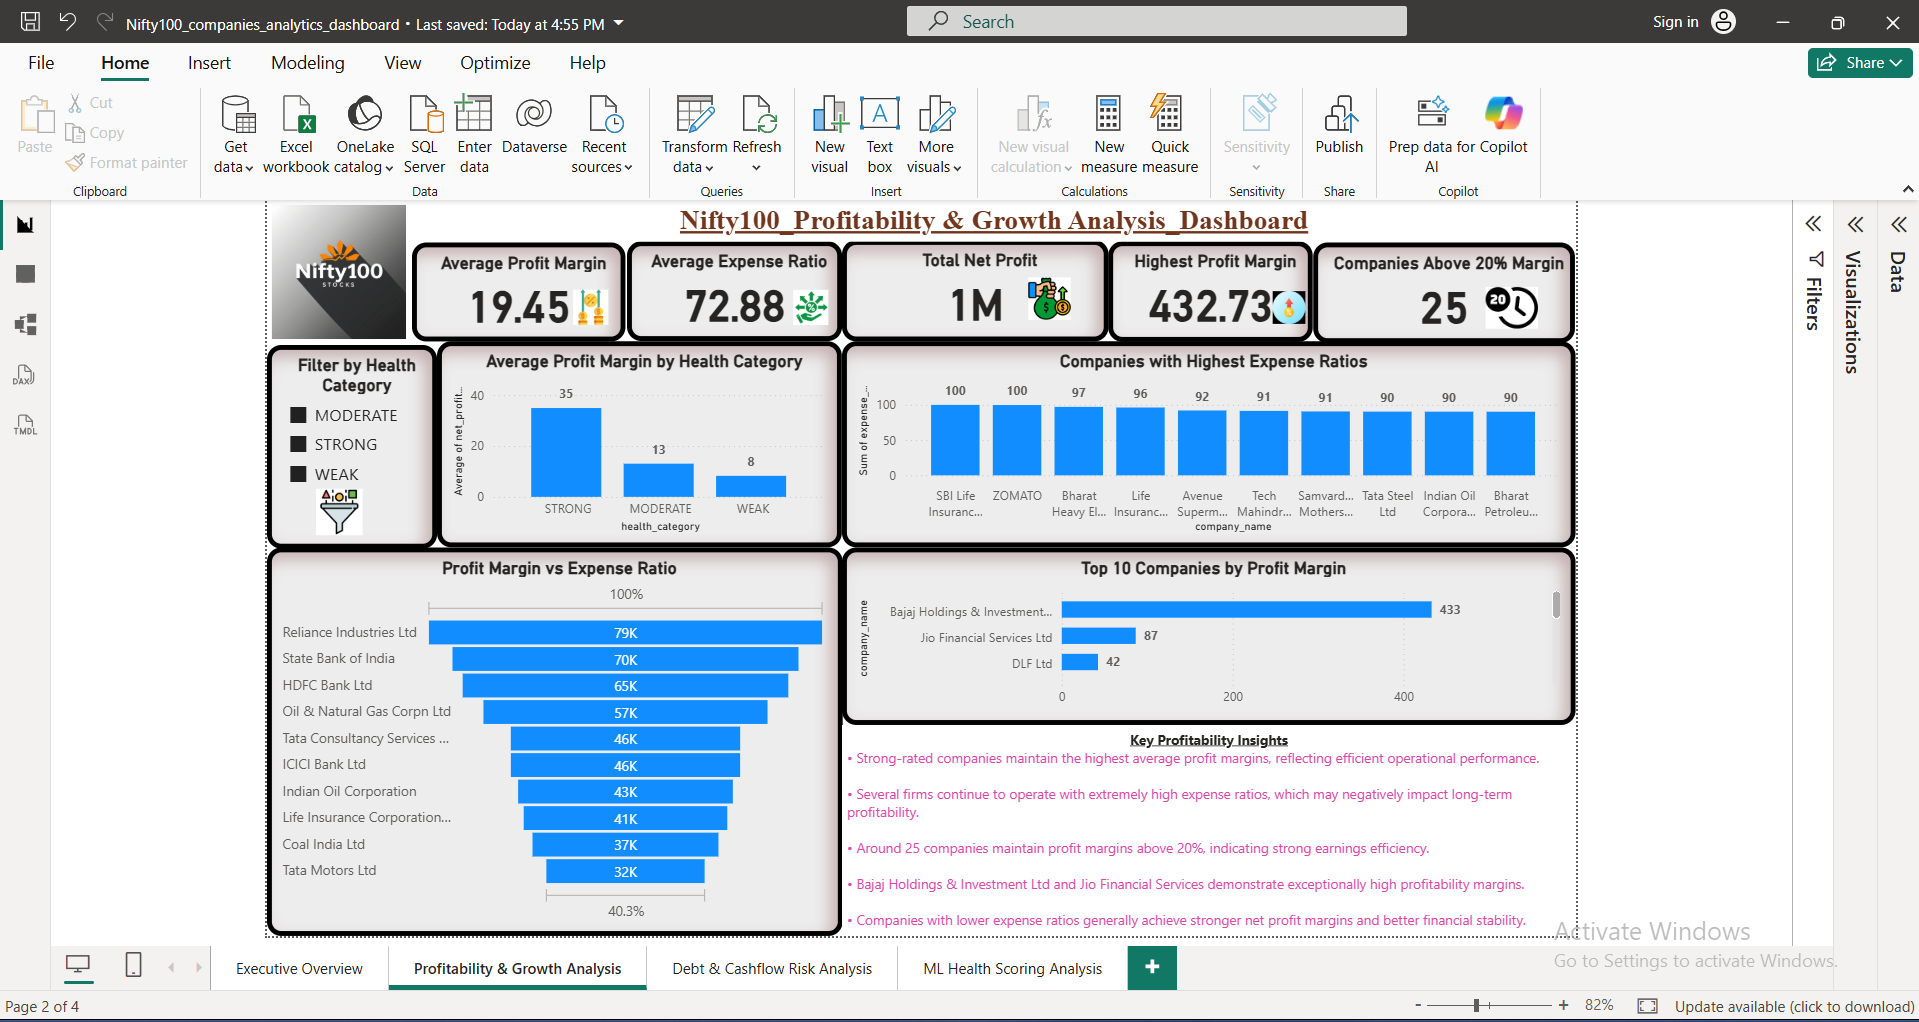

What the dashboard file says about the page in this screenshot:
{"tool":"powerbi","page":{"name":"Profitability & Growth Analysis","canvas":[1280,720],"ordinal":1},"visuals":[{"type":"card","title":"Average Profit Margin","fields":{"Values":["Avg(company_health_scores.net_profit_margin_pct)"]},"box":[141.8,41.6,209.1,96.6],"z":0},{"type":"card","title":"Total Net Profit","fields":{"Values":["Sum(company_health_scores.net_profit)"]},"box":[562.5,39.1,260.5,99],"z":1000},{"type":"card","title":"Highest Profit Margin","fields":{"Values":["Max(company_health_scores.net_profit_margin_pct)"]},"box":[823.6,39.8,200.4,98.7],"z":2000},{"type":"card","title":"Companies Above 20% Margin","fields":{"Values":["Count(company_health_scores.company_name)"]},"box":[1023.9,41.3,256.4,98.7],"z":3000},{"type":"card","title":"Average Expense Ratio","fields":{"Values":["Avg(company_health_scores.expense_ratio_pct)"]},"box":[352.2,40.4,210.3,97.8],"z":4000},{"type":"slicer","title":"Filter by Health Category","fields":{"Values":["company_health_scores.health_category"]},"box":[0,141.4,166.5,198.9],"z":5000},{"type":"image","box":[0,0,141.3,141.3],"z":6000},{"type":"textbox","box":[141.3,0,1138.9,41.2],"z":7000},{"type":"clusteredBarChart","title":"Top 10 Companies by Profit Margin","fields":{"Category":["company_health_scores.company_name"],"Y":["Sum(company_health_scores.net_profit_margin_pct)"]},"box":[562.8,472.9,717.5,247.5],"z":8000},{"type":"clusteredColumnChart","title":"Companies with Highest Expense Ratios","fields":{"Category":["company_health_scores.company_name"],"Y":["Sum(company_health_scores.expense_ratio_pct)"]},"box":[562.5,138.2,717.8,335.1],"z":9000},{"type":"clusteredColumnChart","title":"Average Profit Margin by Health Category","fields":{"Category":["company_health_scores.health_category"],"Y":["Avg(company_health_scores.net_profit_margin_pct)"]},"box":[166.5,138.5,396.3,201.8],"z":10000},{"type":"funnel","title":"Profit Margin vs Expense Ratio","fields":{"Category":["company_health_scores.company_name"],"Y":["Sum(company_health_scores.net_profit)"]},"box":[0,340.3,562.8,380.1],"z":11000}]}

Visuals, with their boxes on the page's 1280x720 design canvas (x1, y1, x2, y2). These are canvas units, not pixel positions in the 1919x1022 screenshot, which may show the page scaled, cropped or inside an application window:
"Average Profit Margin" card: 142 42 351 138
"Total Net Profit" card: 562 39 823 138
"Highest Profit Margin" card: 824 40 1024 138
"Companies Above 20% Margin" card: 1024 41 1280 140
"Average Expense Ratio" card: 352 40 562 138
"Filter by Health Category" slicer: 0 141 166 340
image: 0 0 141 141
textbox: 141 0 1280 41
"Top 10 Companies by Profit Margin" clusteredBarChart: 563 473 1280 720
"Companies with Highest Expense Ratios" clusteredColumnChart: 562 138 1280 473
"Average Profit Margin by Health Category" clusteredColumnChart: 166 138 563 340
"Profit Margin vs Expense Ratio" funnel: 0 340 563 720
